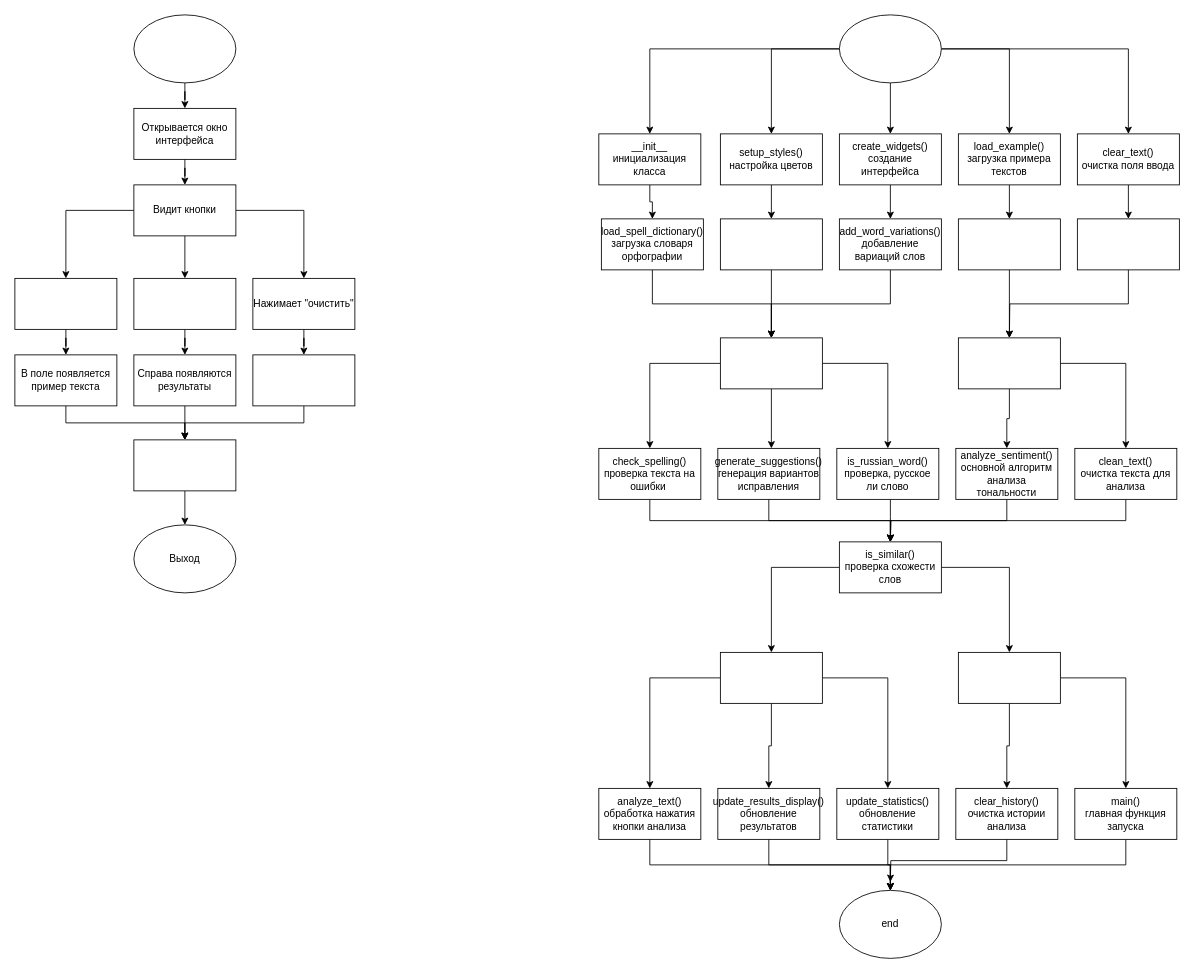
This 1194x973 diagram has some shape labels left out. The shapes that lost their labels are listed below. From the top down, each one's box as (x1, y1, x2, y2) in pixels, then its label:
(133, 14, 236, 83): Запуск
(839, 14, 941, 83): start
(720, 218, 822, 270): get_extended_russian _words() получение русского словаря
(958, 218, 1060, 270): on_text_change() проверка орфографии при вводе
(1077, 218, 1179, 270): draw_sentiment_bar() рисование шкалы тональности
(14, 278, 117, 329): Нажимает "пример"
(133, 278, 236, 329): Нажимает "анализ"
(252, 354, 355, 406): Поле ввода очищается
(720, 337, 822, 389): Методы проверки орфографии
(958, 337, 1060, 389): методы анализа тональности
(133, 439, 236, 491): Пользователь видит оценку текста на тональность и орфографию
(720, 652, 822, 703): методы обработки
(958, 652, 1060, 703): методы обновления
